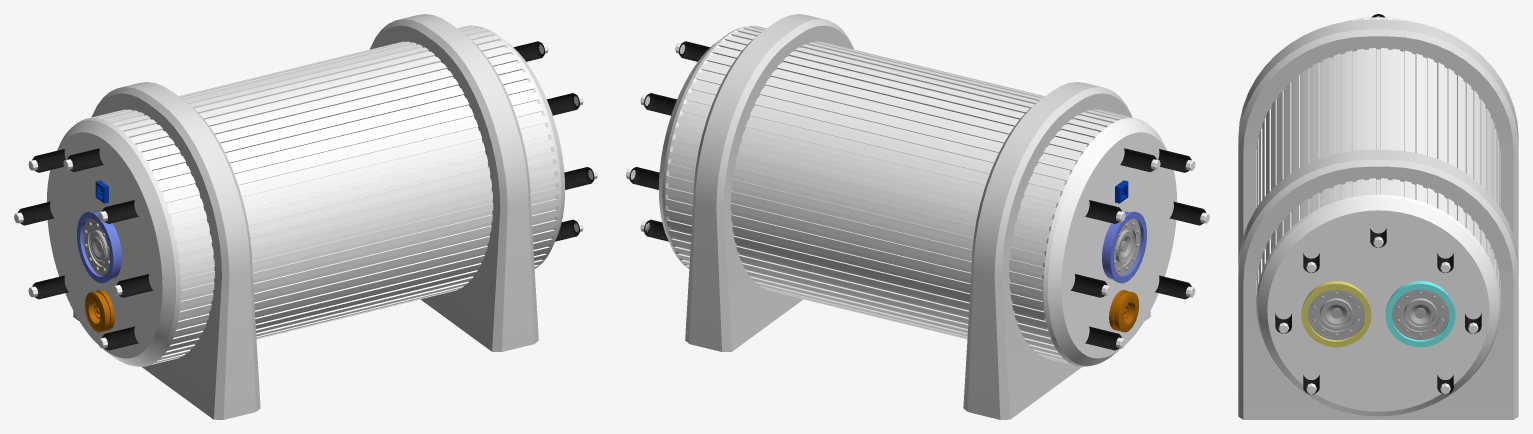
File: Electrolyser.gltf
3 renders of one model, left to right at view 1: azimuth 30°, elevation 25°; view 2: azimuth 150°, elevation 25°; view 3: azimuth 270°, elevation 25°, orthographic. The views are drawn at different scales.
Visible parts, largest first — view 1: body; view 2: body; view 3: body.
Part boxes in pixels (box(x1,y1,x2,y2)): body: box(14, 14, 597, 419); body: box(626, 14, 1209, 419); body: box(1238, 14, 1518, 419).
Bounding box in the file's own units: 1.9 × 1 × 1.
